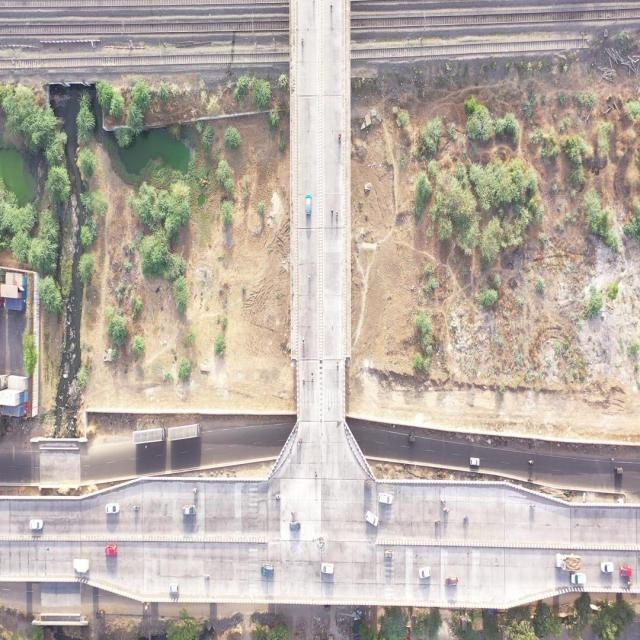3W: (363, 479, 374, 491), (612, 466, 626, 475), (384, 550, 394, 562), (96, 609, 105, 621), (322, 603, 331, 615), (408, 432, 416, 444), (298, 433, 303, 448)
Cars: (258, 562, 278, 581), (26, 515, 46, 533), (364, 510, 379, 532), (378, 491, 393, 508), (444, 573, 459, 590), (105, 502, 121, 516), (289, 518, 303, 534), (320, 562, 336, 576), (104, 544, 118, 559), (600, 561, 614, 576), (181, 505, 197, 518), (418, 566, 432, 580), (570, 573, 586, 585), (305, 192, 312, 218), (619, 566, 633, 577), (469, 456, 482, 467), (169, 582, 179, 596)
LCV: (554, 552, 582, 571)
M2W: (329, 1, 336, 14), (433, 519, 442, 528), (314, 468, 320, 481), (192, 487, 200, 496), (203, 572, 211, 581), (439, 497, 447, 506), (528, 500, 536, 509), (527, 459, 536, 467), (290, 508, 298, 516), (133, 505, 141, 512), (626, 581, 634, 588), (308, 270, 312, 284), (300, 36, 305, 46), (462, 514, 470, 520), (330, 205, 334, 217), (338, 132, 342, 144), (302, 375, 306, 386), (336, 359, 340, 370), (302, 336, 306, 347), (335, 210, 339, 220), (311, 369, 314, 382), (276, 494, 282, 500), (443, 507, 449, 513)
MAV: (168, 422, 202, 441), (132, 428, 167, 444)
